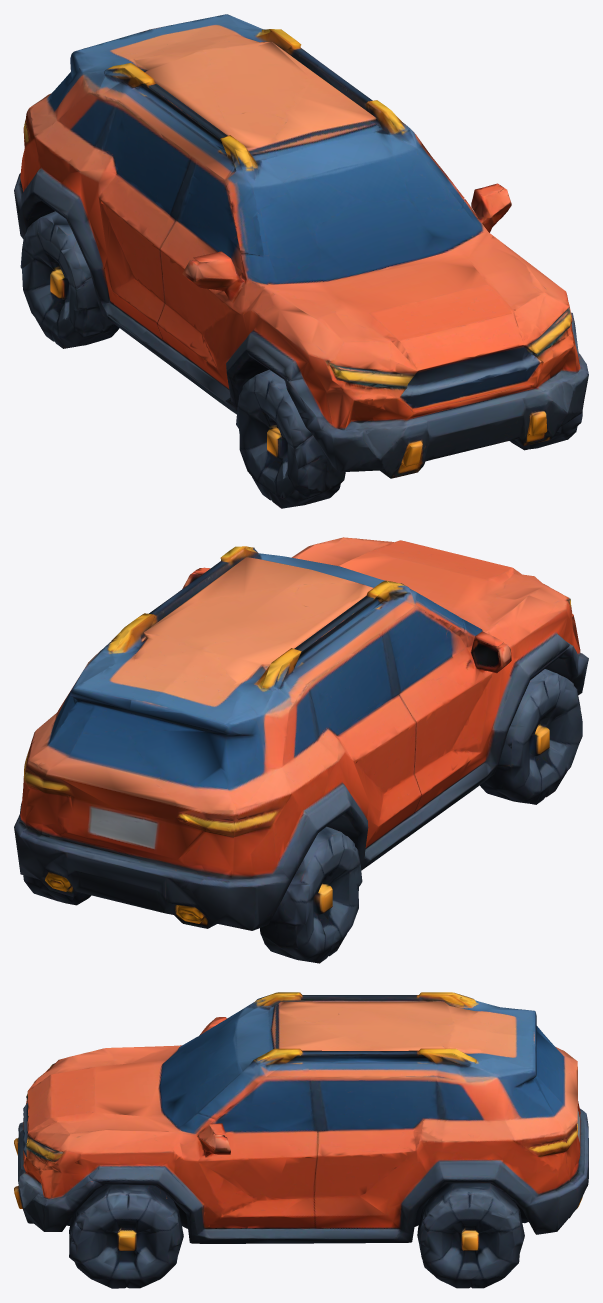
File: arrival-suv-lite.glb
3 renders of one model, top to bottom at view 1: azimuth 30°, elevation 25°; view 2: azimuth 150°, elevation 25°; view 3: azimuth 270°, elevation 25°, orthographic. The views are drawn at different scales.
Visible parts, largest first — view 1: node_0; view 2: node_0; view 3: node_0.
Part boxes in pixels (x1,y1,x2,y2): node_0: (14,14,588,508); node_0: (14,537,588,963); node_0: (14,992,588,1288).
Bounding box in the file's own units: 0.5925 × 0.4771 × 1.16.
Materials: 1 (1 with a texture image).
